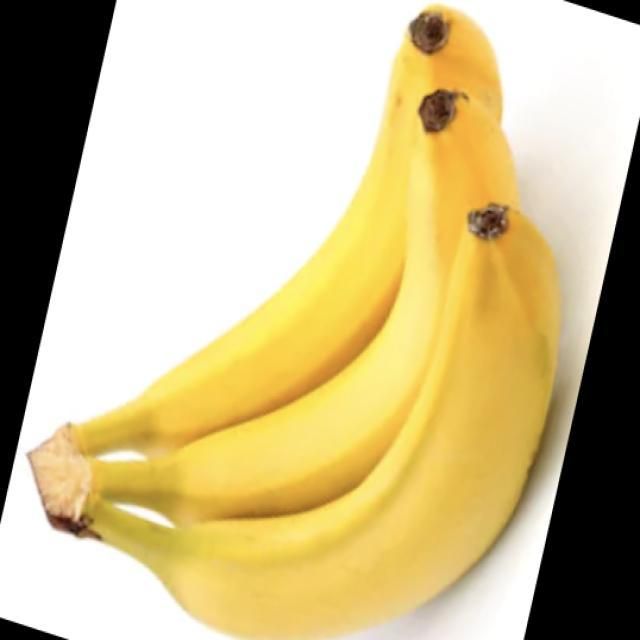Banana: (25, 3, 562, 639)
